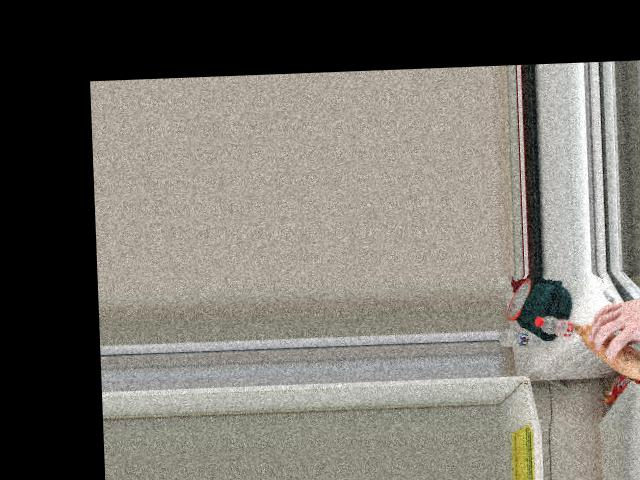sweet_potato: (576, 306, 639, 380)
